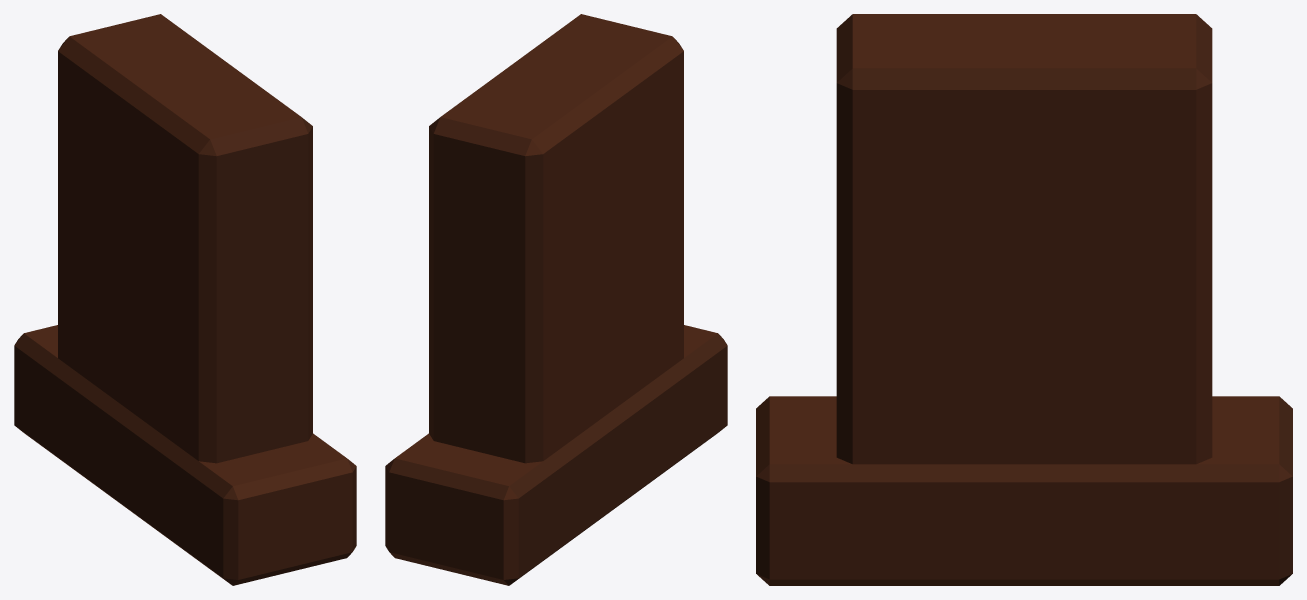
The model's file is D12_Bench_Leg.fbx.
The picture shows the model from 3 angles, left to right: view 1: azimuth 30°, elevation 25°; view 2: azimuth 150°, elevation 25°; view 3: azimuth 270°, elevation 25°; orthographic projection. The views are drawn at different scales.
Visible parts, largest first — view 1: D12_Bench_Leg; view 2: D12_Bench_Leg; view 3: D12_Bench_Leg.
Part boxes in pixels (x1,y1,x2,y2): D12_Bench_Leg: (14,14,356,585); D12_Bench_Leg: (385,14,727,585); D12_Bench_Leg: (756,14,1292,585).
Bounding box in the file's own units: 0.14 × 0.42 × 0.4.
Materials: 1 (1 with a texture image).
